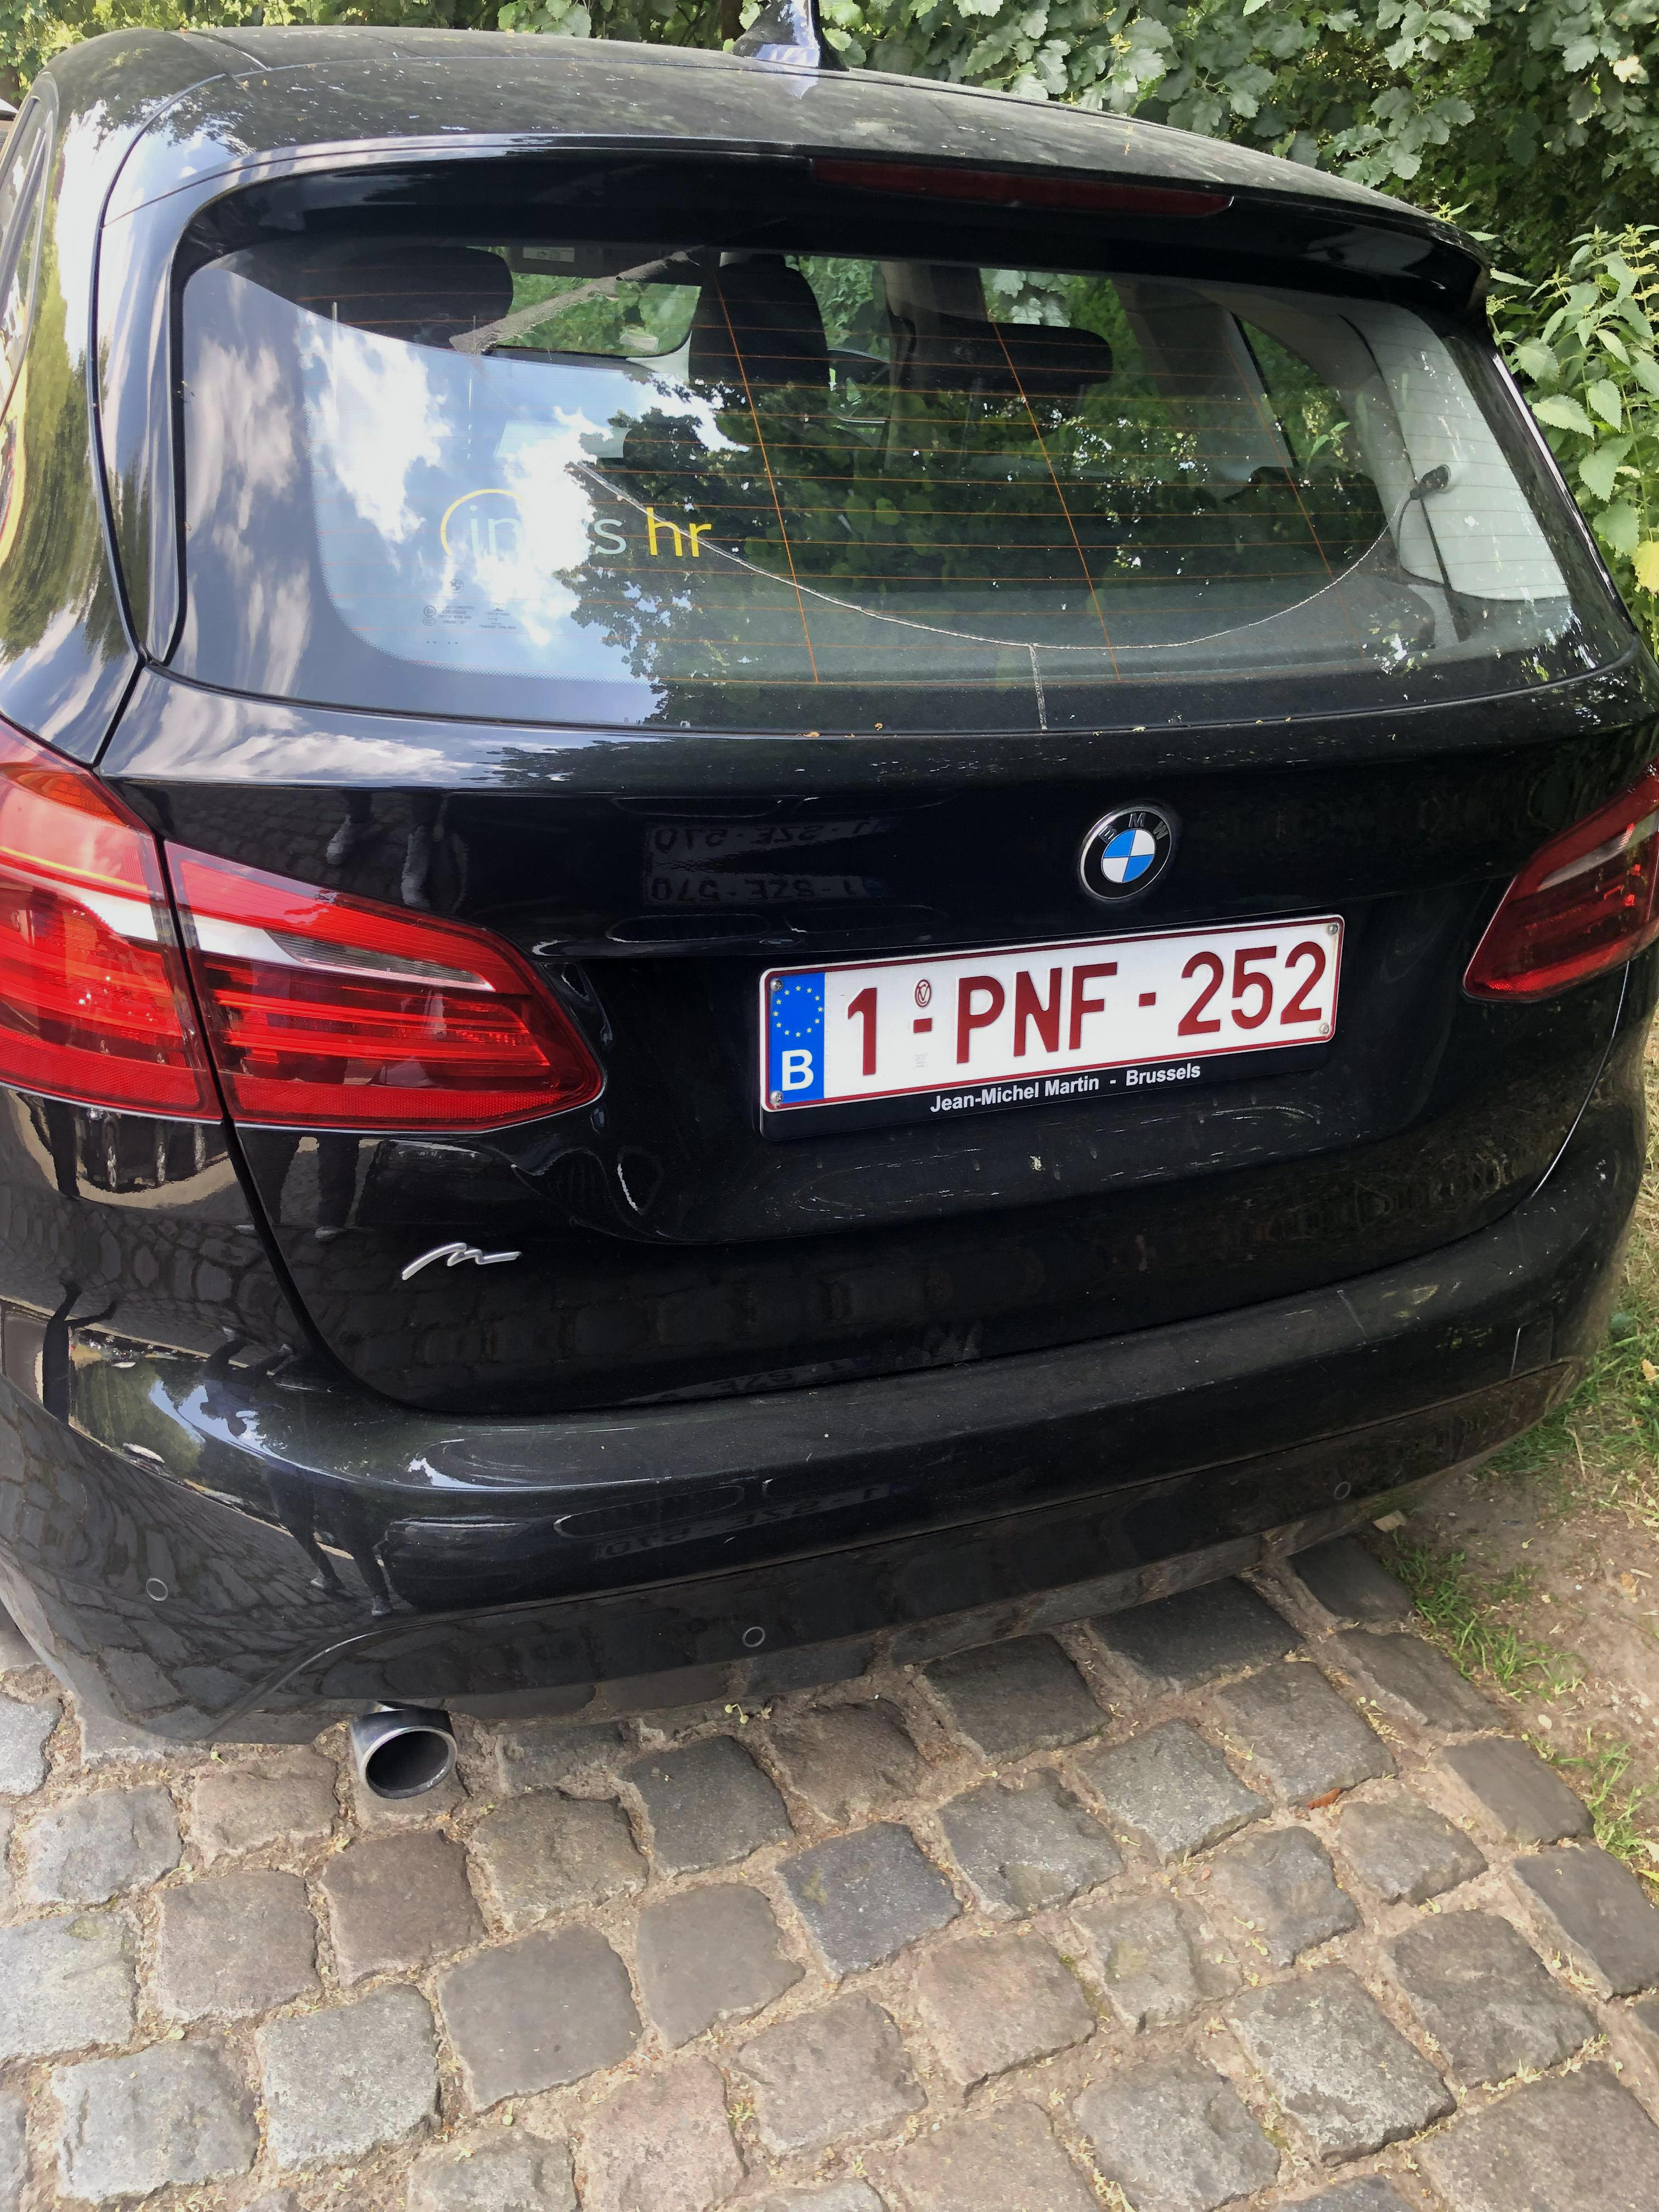plate: (739, 904, 1361, 1125)
